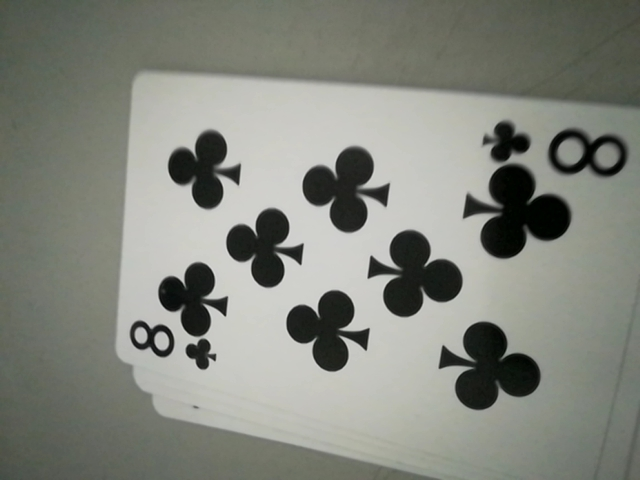mh 8: (479, 117, 630, 177), (122, 318, 217, 376)
